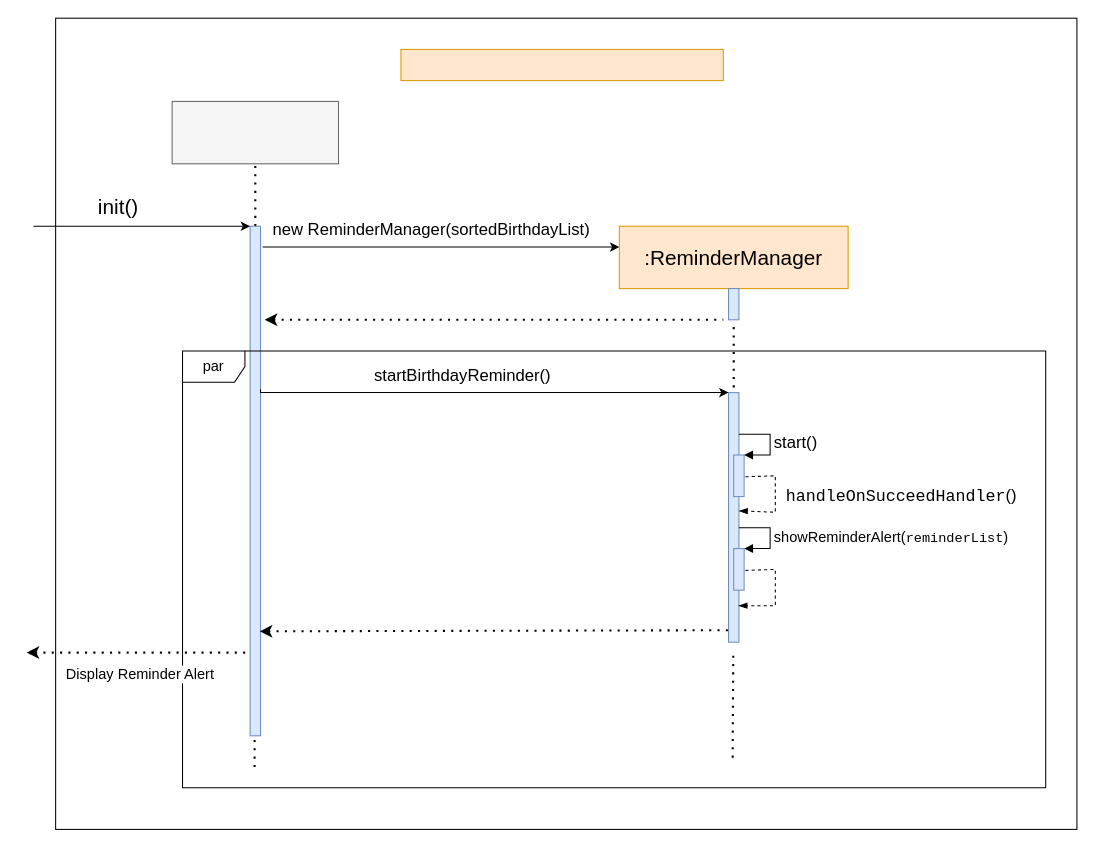
The diagram is 1095 pixels wide and 848 high, and some of its shapes have lost their labels. The box of each missing label's shape, as (x1, y1, x2, y2) in pixels:
:MainApp: (171, 100, 339, 164)
Reminder Implementation: (400, 48, 723, 81)
